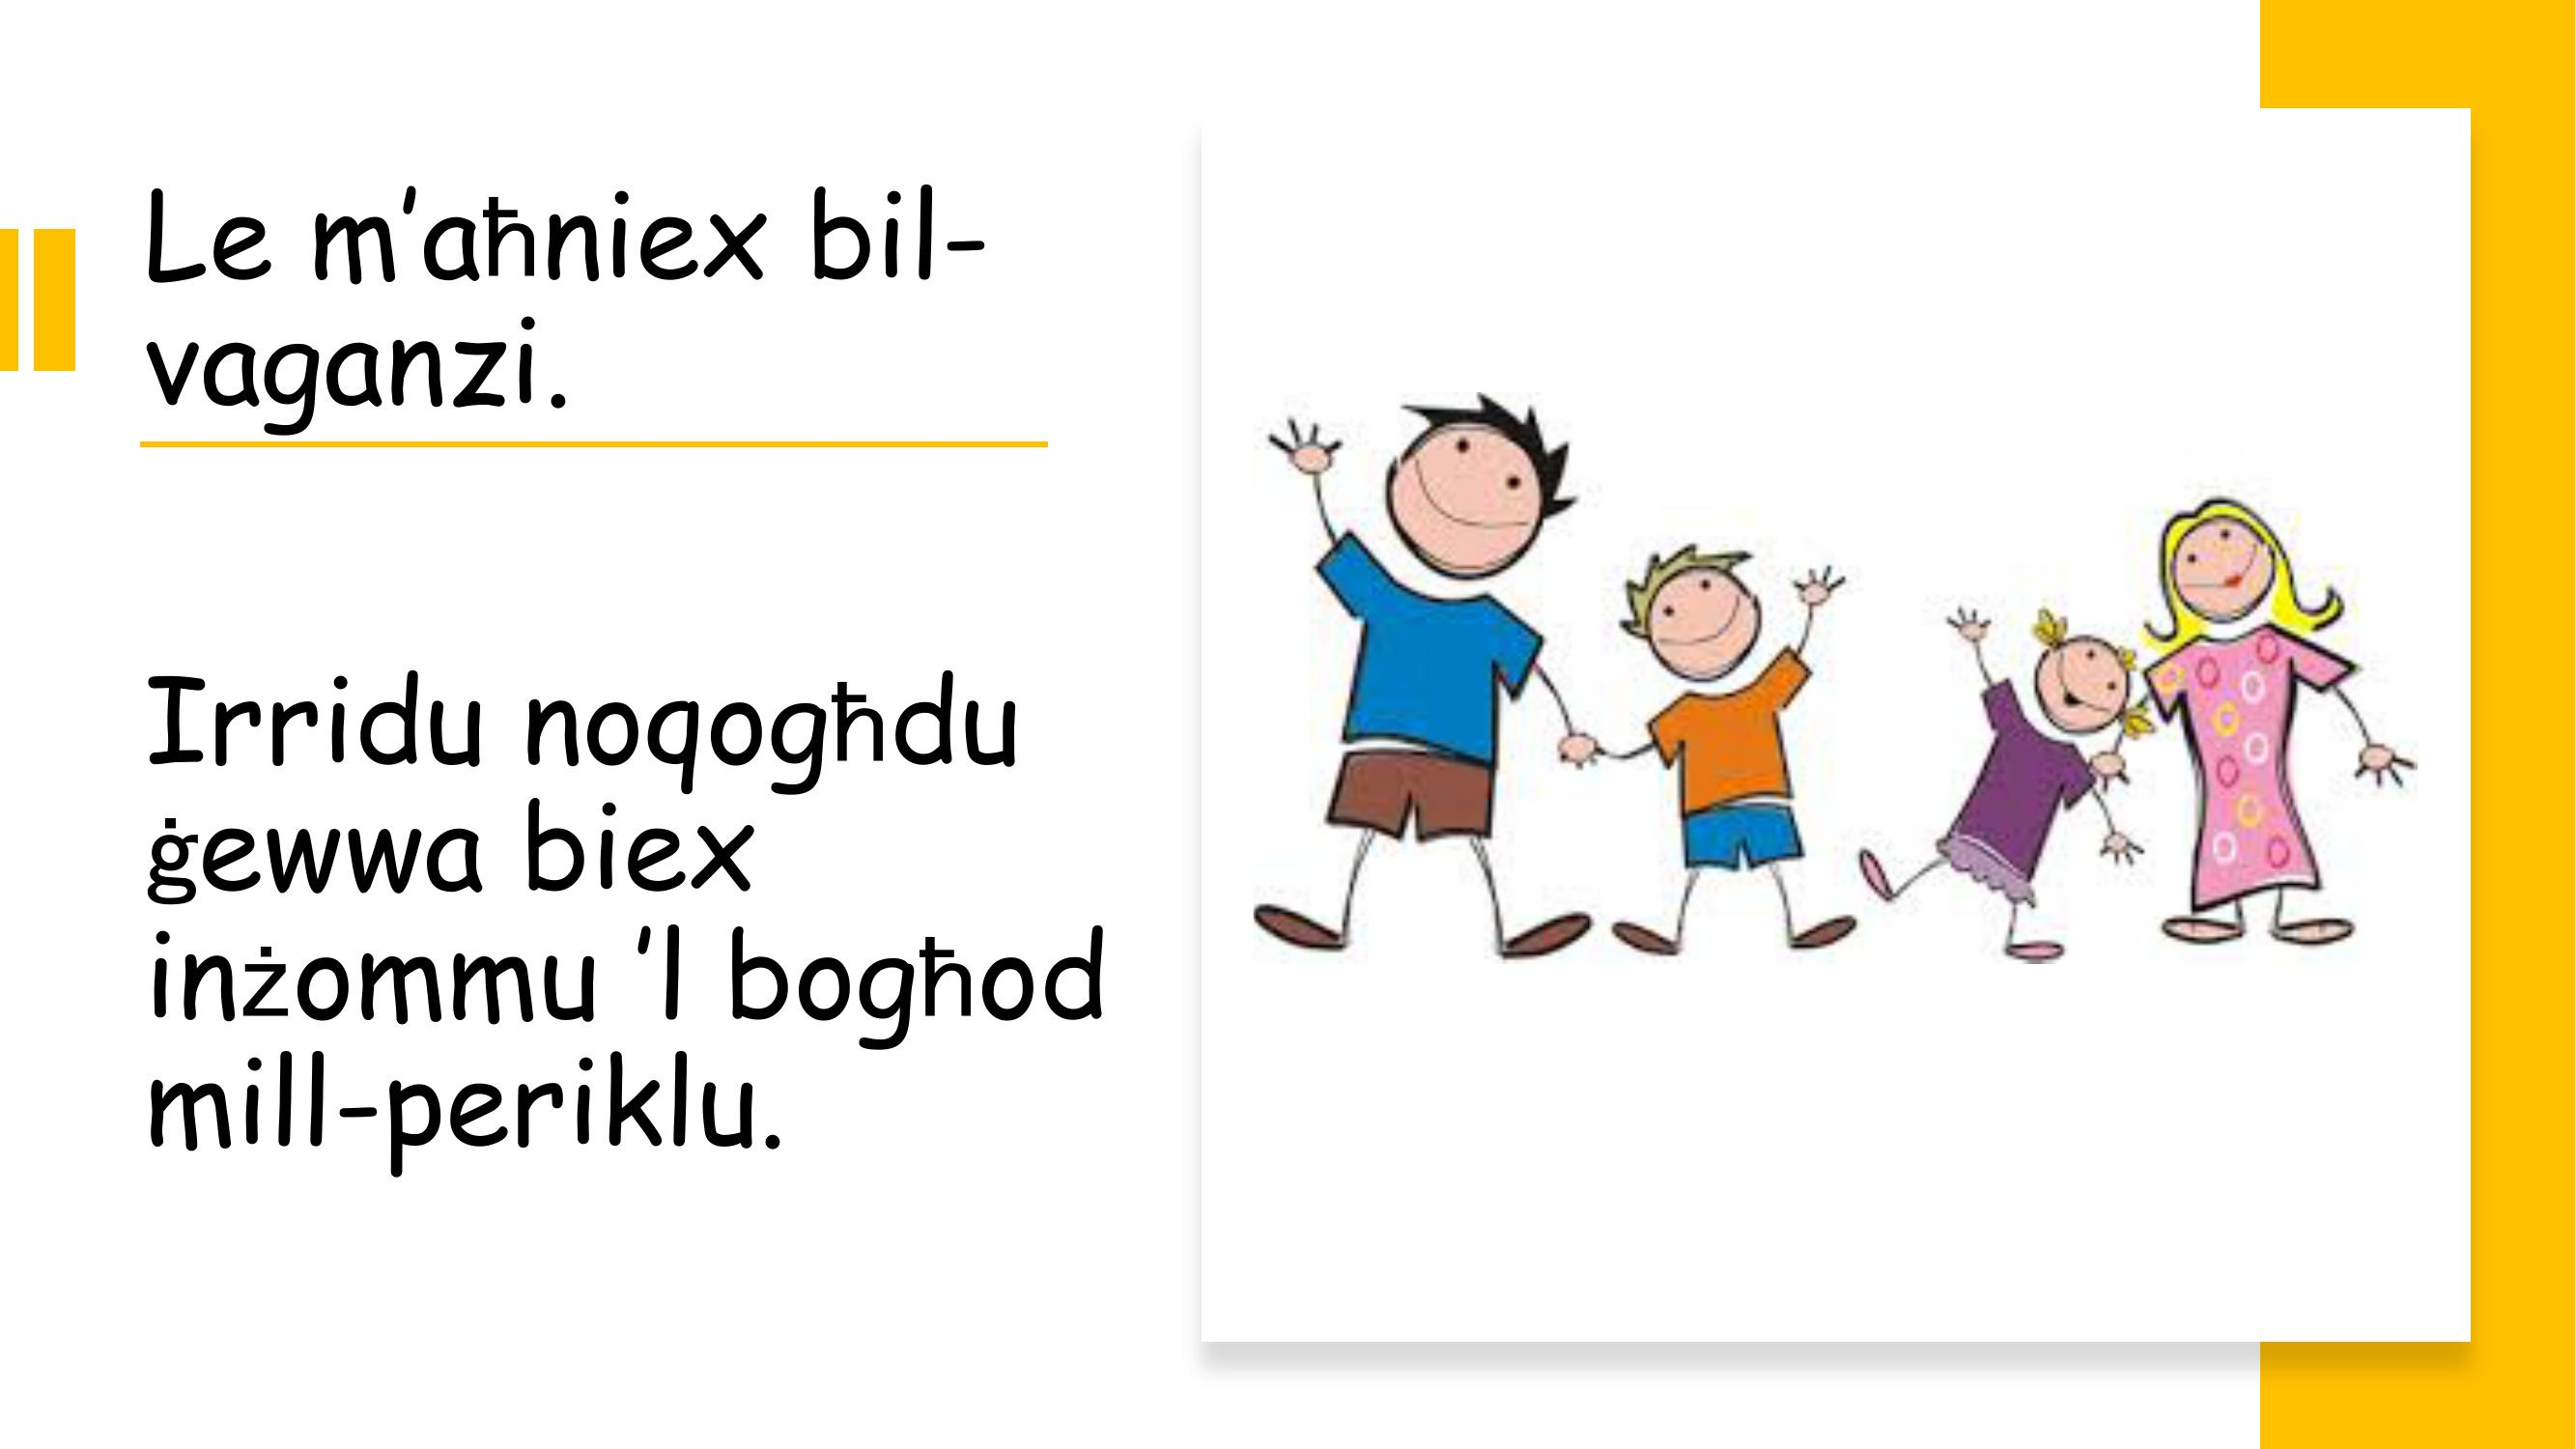text: (115, 161, 1131, 1196)
